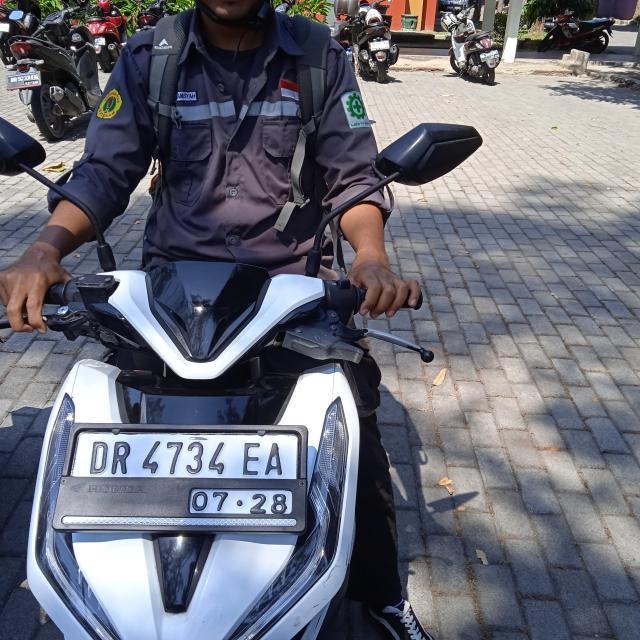plate: (70, 431, 299, 521)
